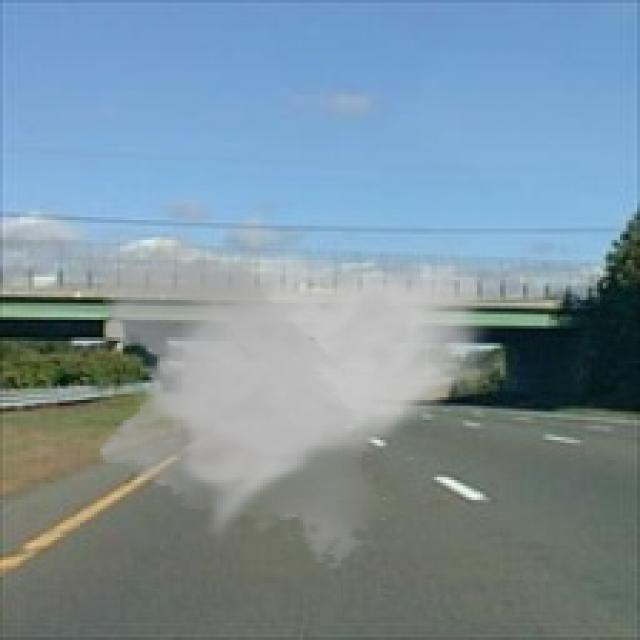Smoke: (89, 223, 508, 572)
